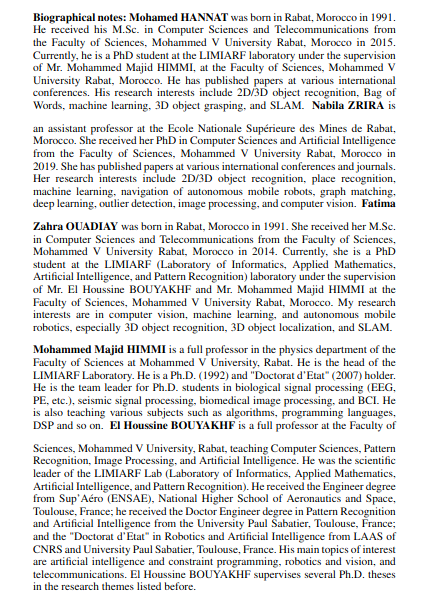bottles: (105, 74, 296, 331)
